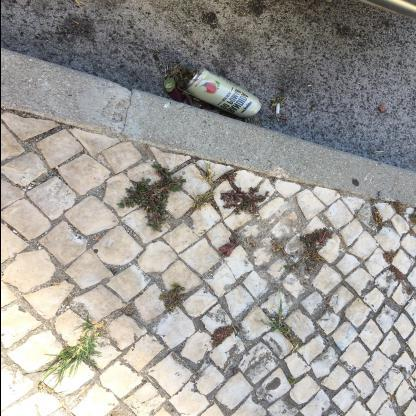metal: (185, 69, 263, 121)
